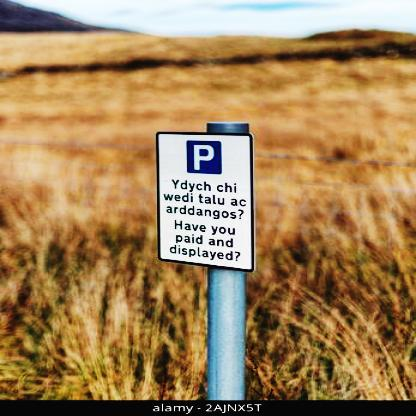Parking: (181, 138, 226, 175)
